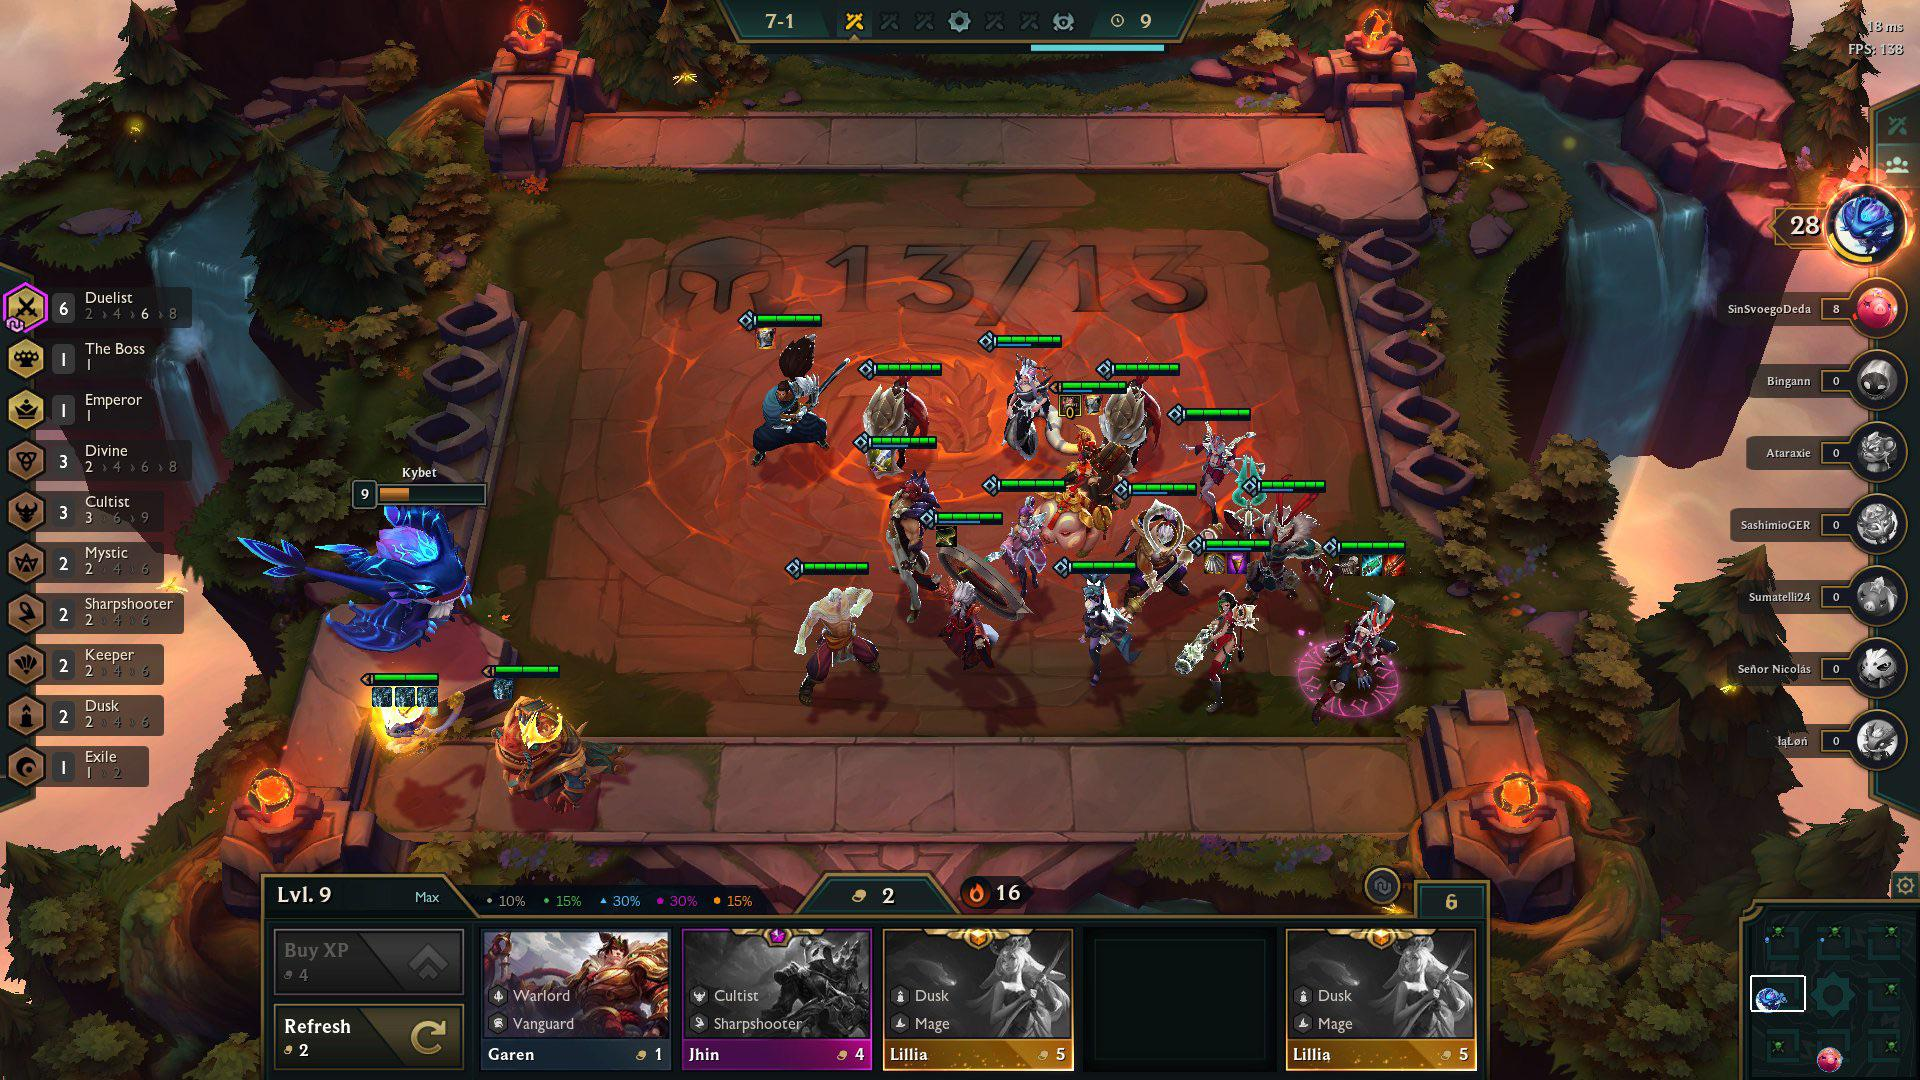1star_tahmkench: (473, 651, 640, 833)
2star_azir: (1215, 460, 1346, 663)
2star_azirsoldier: (1071, 349, 1197, 481), (840, 351, 967, 483)
2star_cassiopeia: (975, 314, 1112, 497)
2star_elise: (1150, 382, 1282, 585)
2star_fiora: (967, 469, 1081, 640)
2star_jax: (1091, 460, 1222, 663)
2star_jinx: (1160, 529, 1294, 732)
2star_kalista: (1283, 530, 1476, 733)
2star_kalista_chosen: (1280, 527, 1474, 731)
2star_leesin: (775, 550, 891, 724)
2star_sett: (843, 427, 971, 638)
2star_vayne: (1039, 537, 1171, 740)
2star_yasuo: (724, 286, 852, 497)
2star_zilean: (907, 504, 1039, 707)
item_bow: (928, 520, 961, 551)
item_divine: (864, 443, 897, 473)
item_fon: (488, 671, 520, 705), (367, 680, 398, 713), (414, 679, 444, 713), (390, 676, 421, 711)
item_gargoyle: (1081, 386, 1112, 417)
item_glove: (1335, 549, 1365, 582)
item_gunblade: (1356, 546, 1390, 585)
item_negatron: (1199, 546, 1230, 580)
item_rfc: (1379, 545, 1414, 583)
item_titan: (749, 320, 782, 351), (1055, 392, 1085, 422)
trait_cultist3: (1, 480, 206, 535)
trait_divine3: (1, 433, 206, 487)
trait_duelist6: (1, 281, 206, 336)
trait_dusk2: (1, 684, 206, 740)
trait_emperor1: (1, 381, 206, 436)
trait_exile1: (1, 738, 206, 793)
trait_keeper2: (1, 638, 206, 694)
trait_mystic2: (1, 534, 206, 589)
trait_sharpshooter2: (1, 585, 206, 641)
trait_theboss1: (1, 334, 206, 388)
